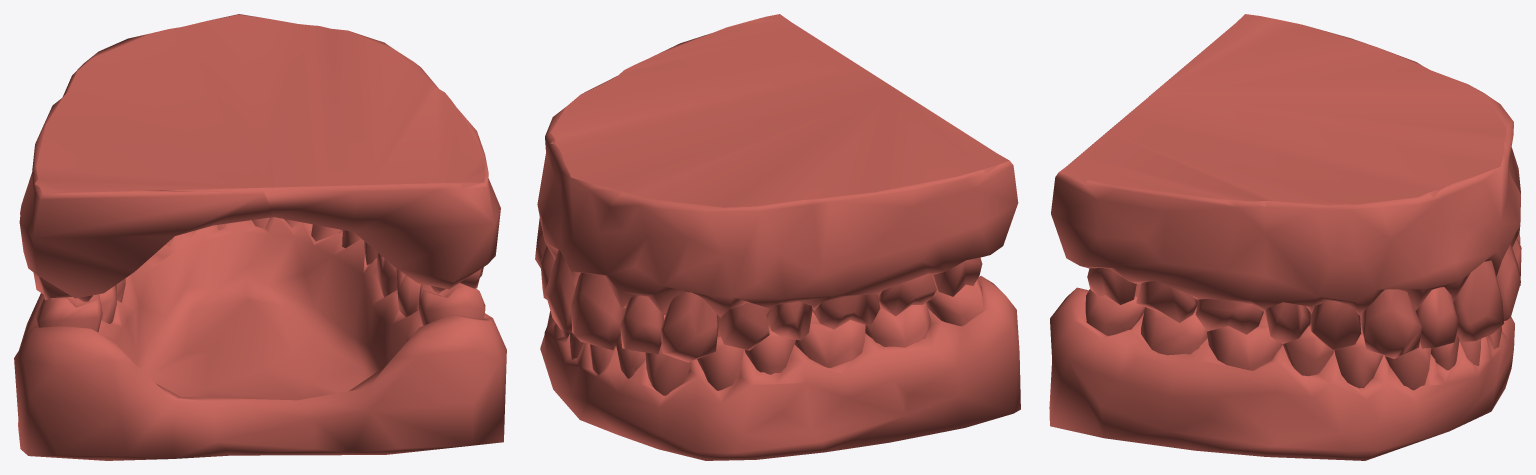
The model's file is jaw.fbx.
3 views of the same model, side by side, from view 1: azimuth 30°, elevation 25°; view 2: azimuth 150°, elevation 25°; view 3: azimuth 270°, elevation 25° (orthographic). The views are drawn at different scales.
Parts seen in each view (by area): view 1: jaw.001; view 2: jaw.001; view 3: jaw.001.
Part boxes in pixels (<box>): jaw.001: <box>14,14,506,460</box>; jaw.001: <box>535,14,1020,460</box>; jaw.001: <box>1049,14,1521,460</box>.
Size of the model in its own units: 7.2 by 4.04 by 6.96.
